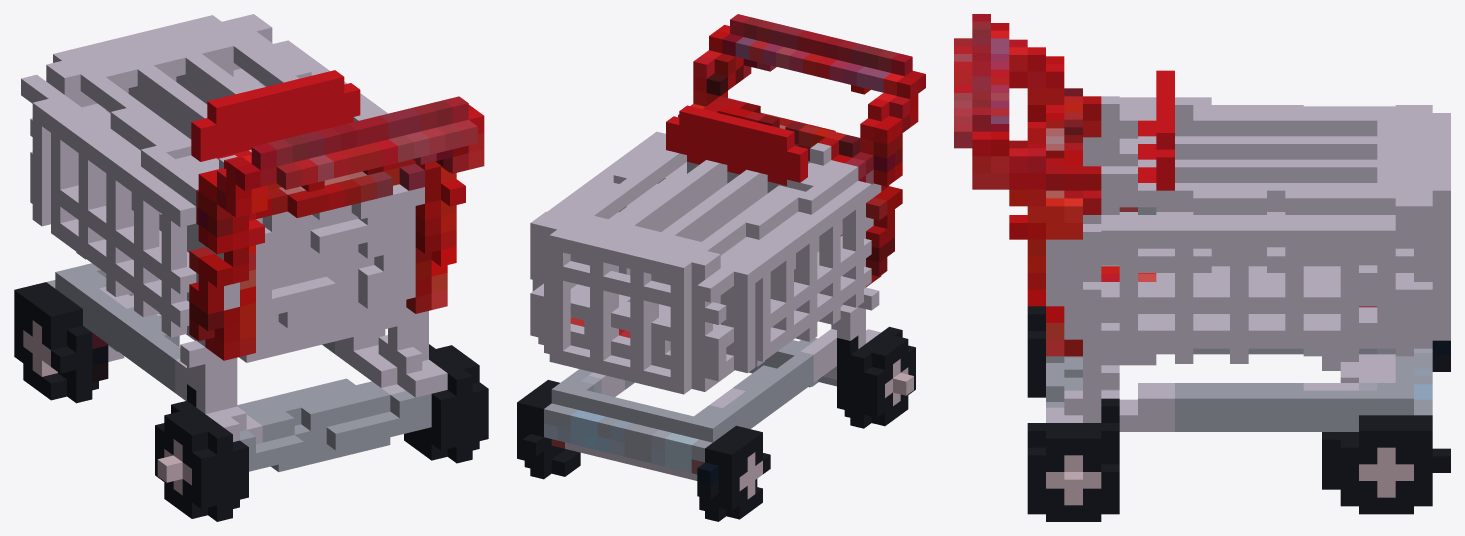
Rendered from ShoppingCart.glb.
The picture shows the model from 3 angles, left to right: view 1: azimuth 30°, elevation 25°; view 2: azimuth 150°, elevation 25°; view 3: azimuth 270°, elevation 25°; orthographic projection. The views are drawn at different scales.
Parts seen in each view (by area): view 1: _0; view 2: _0; view 3: _0.
Part boxes in pixels (x1=…): _0: x1=14, y1=14, x2=488, y2=521; _0: x1=517, y1=14, x2=925, y2=521; _0: x1=954, y1=14, x2=1450, y2=521.
Bounding box in the file's own units: 0.03 × 0.0345 × 0.0405.
